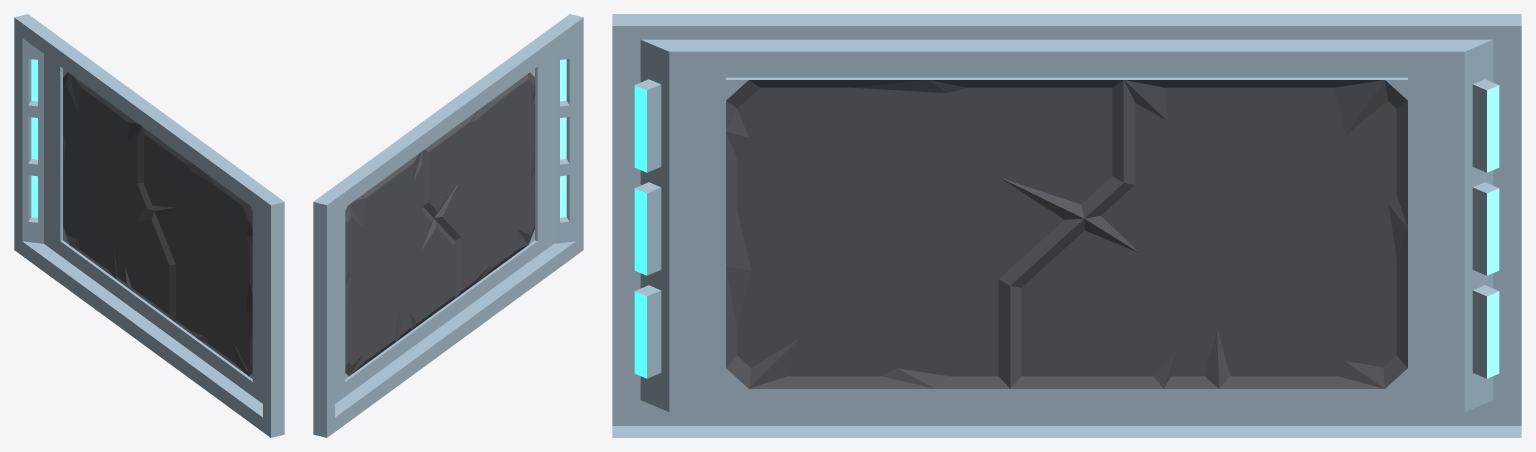
Rendered from Wall_Large_Short.fbx.
3 views of the same model, side by side, from view 1: azimuth 30°, elevation 25°; view 2: azimuth 150°, elevation 25°; view 3: azimuth 270°, elevation 25° (orthographic). The views are drawn at different scales.
Parts seen in each view (by area): view 1: Wall_Large_Short; view 2: Wall_Large_Short; view 3: Wall_Large_Short.
Part boxes in pixels (x1,y1,x2,y2): Wall_Large_Short: [14, 14, 284, 437]; Wall_Large_Short: [313, 14, 583, 437]; Wall_Large_Short: [612, 14, 1521, 437].
Size of the model in its own units: 0.6086 by 8 by 16.
